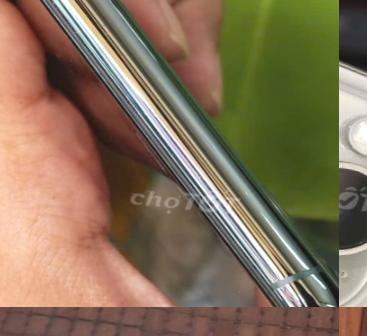scratch: (339, 38, 367, 306)
